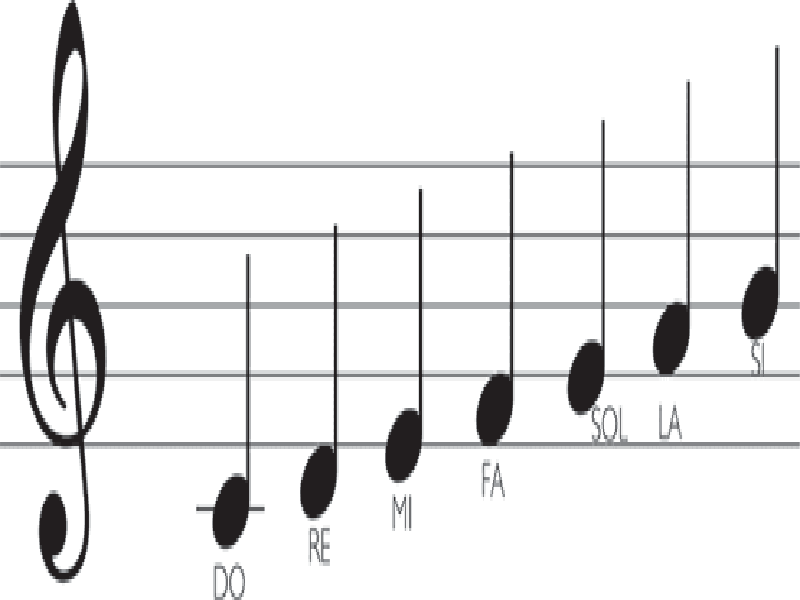CS: (19, 2, 108, 582)
N: (472, 145, 529, 449), (652, 69, 702, 379), (212, 256, 257, 553), (384, 188, 428, 491), (299, 225, 342, 521), (743, 42, 783, 339), (568, 117, 606, 415)
